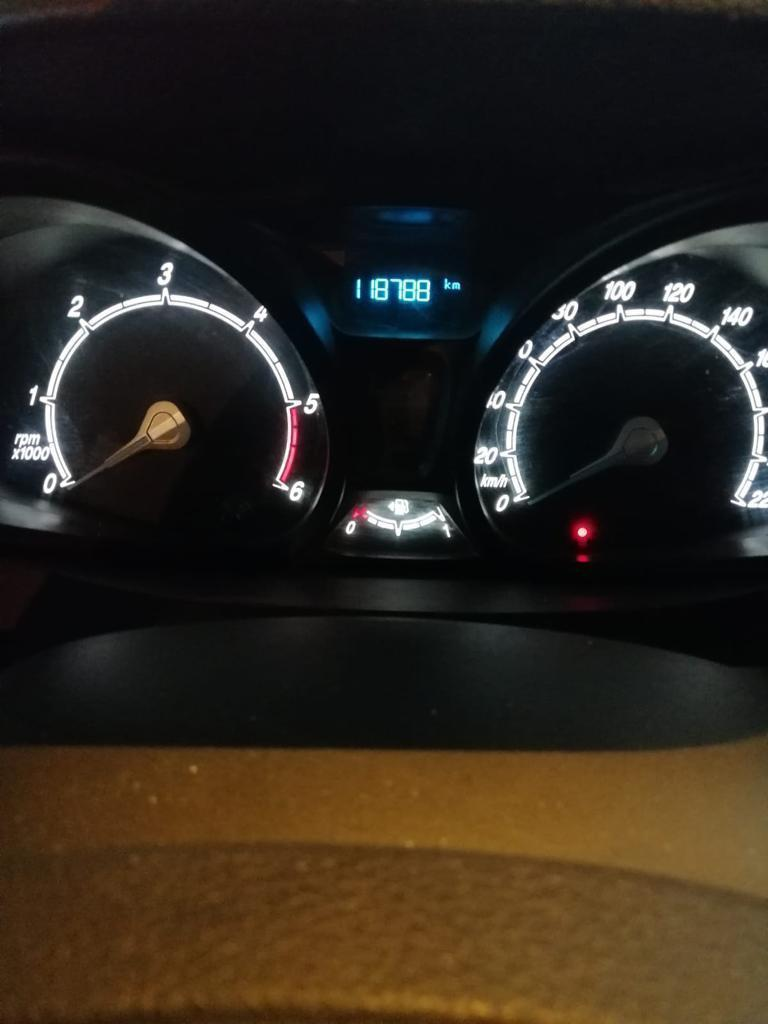1: (369, 278, 374, 299), (355, 278, 360, 299)
7: (389, 278, 402, 299)
8: (402, 278, 416, 301), (416, 279, 430, 301), (374, 278, 388, 300)
X: (443, 277, 451, 290), (451, 282, 460, 289)
odometer: (320, 257, 479, 340)
